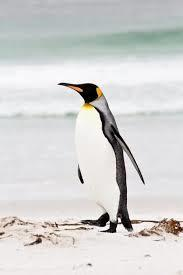king: (44, 71, 161, 240)
